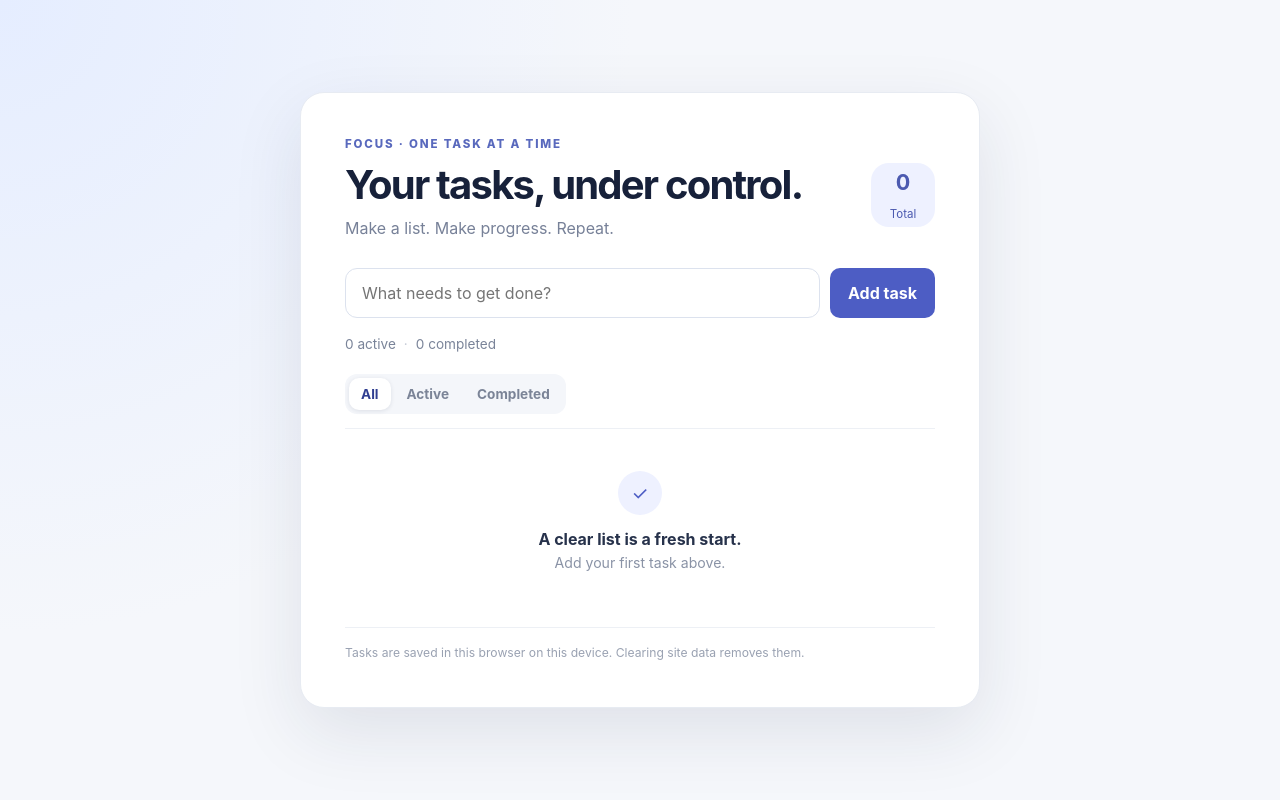
it: Todo management › deletes a task and clears completed tasks
Type "Remove me" into the field named "add a task" at (582,293), box [345,268,820,318]
Click the button "Add task" at (882,293), box [830,268,935,318]
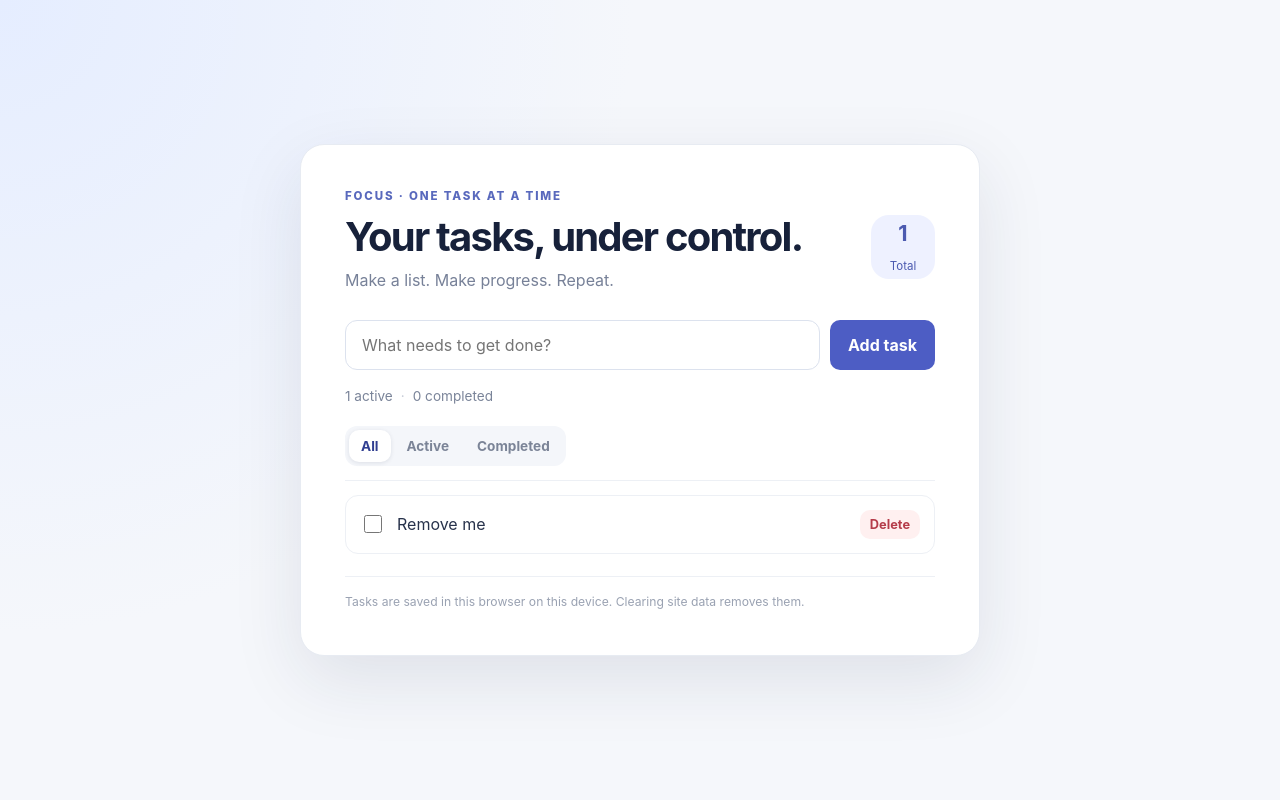
Click the button with aria-label "delete: remove me" at (890,524), box [860,510,920,539]
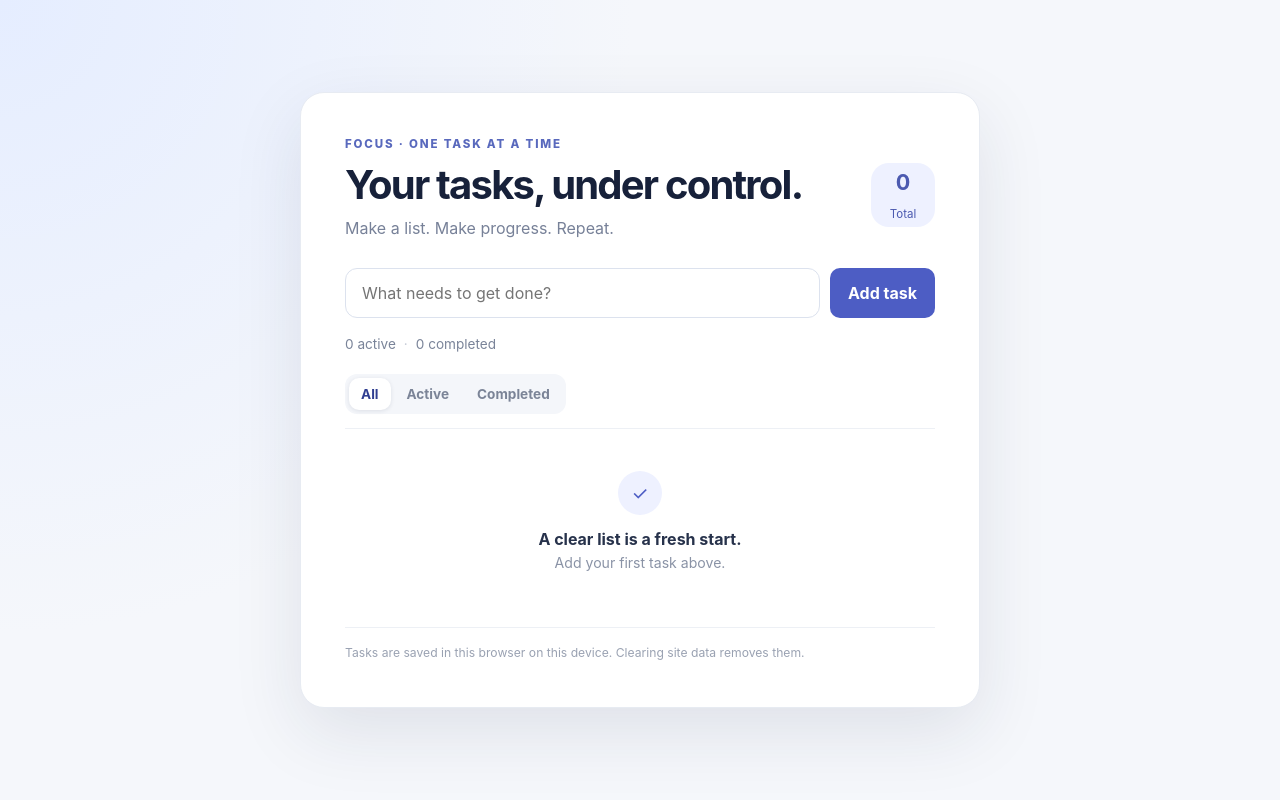
Expected: the text "Remove me" is gone
Type "Done item" into the field named "add a task" at (582,293), box [345,268,820,318]
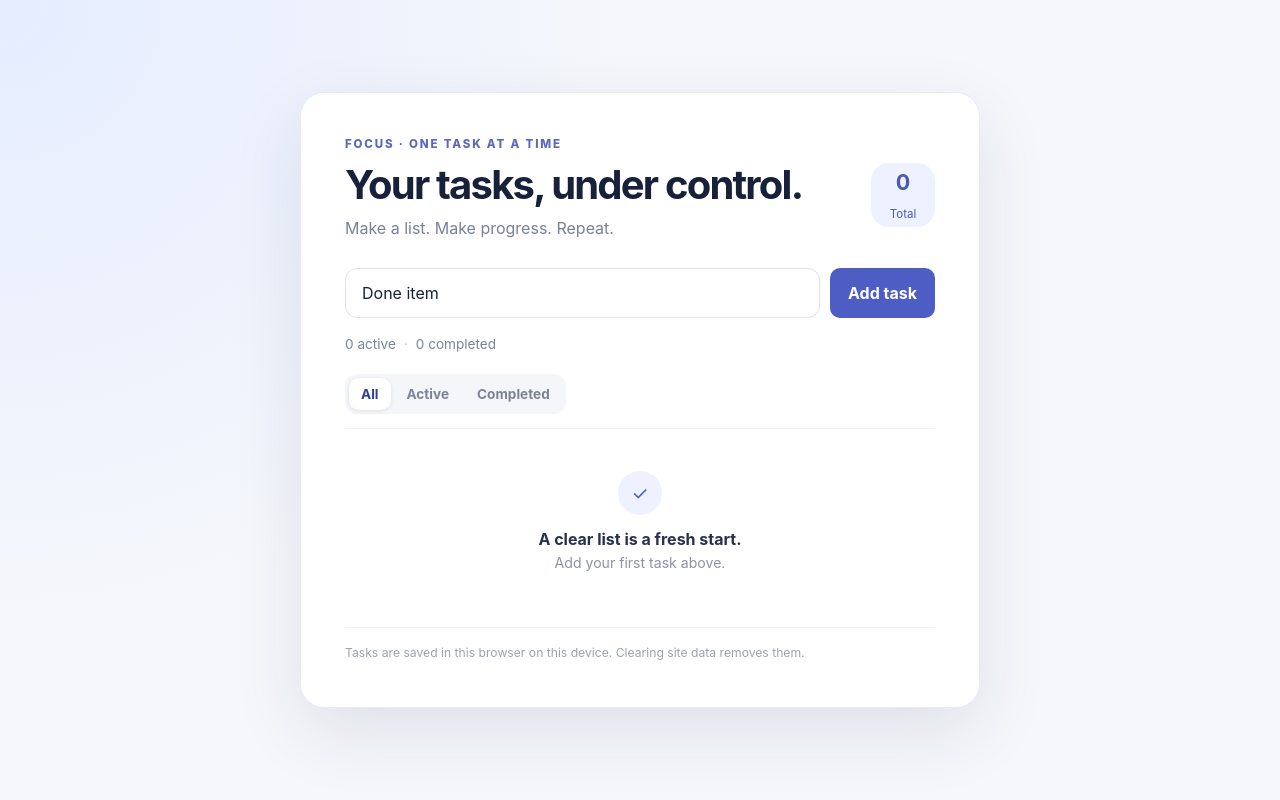
Click the button "Add task" at (882,293), box [830,268,935,318]
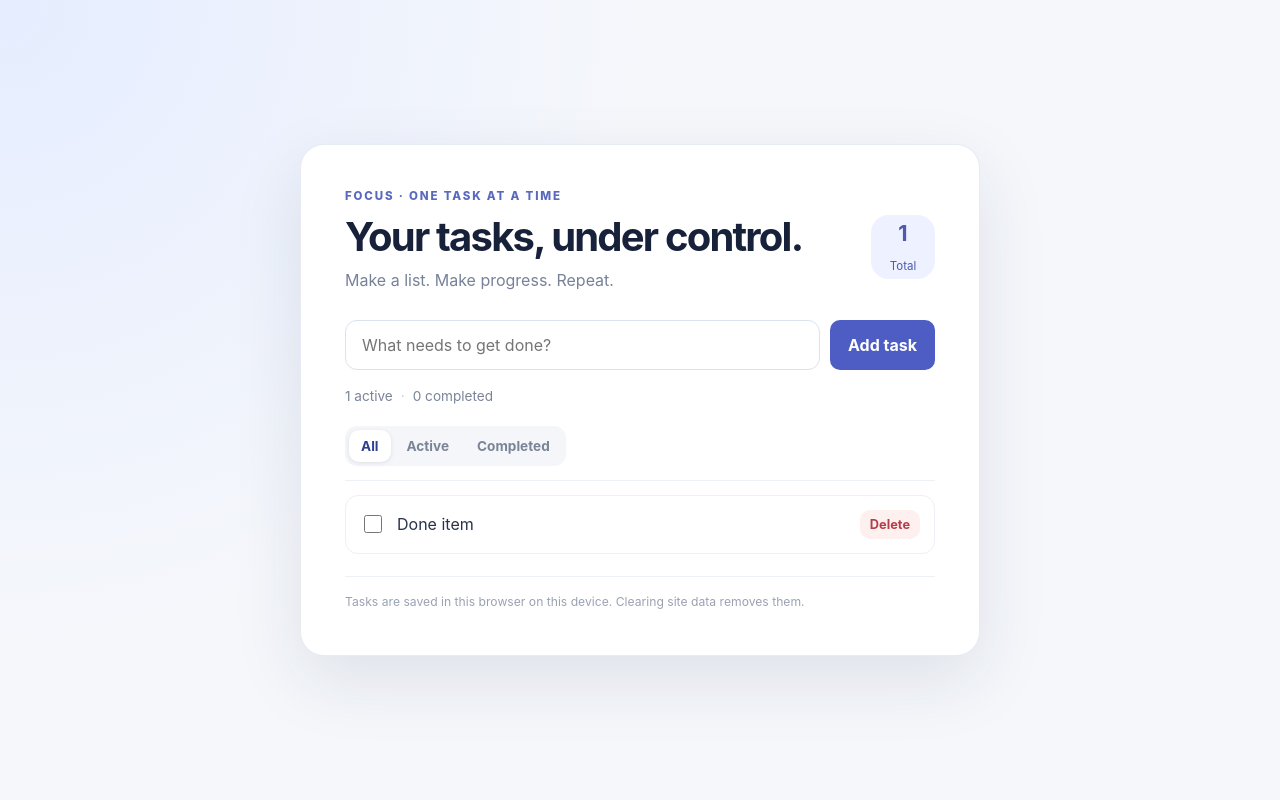
Click the checkbox named "mark done item as completed" at (373,524), box [364,515,382,533]
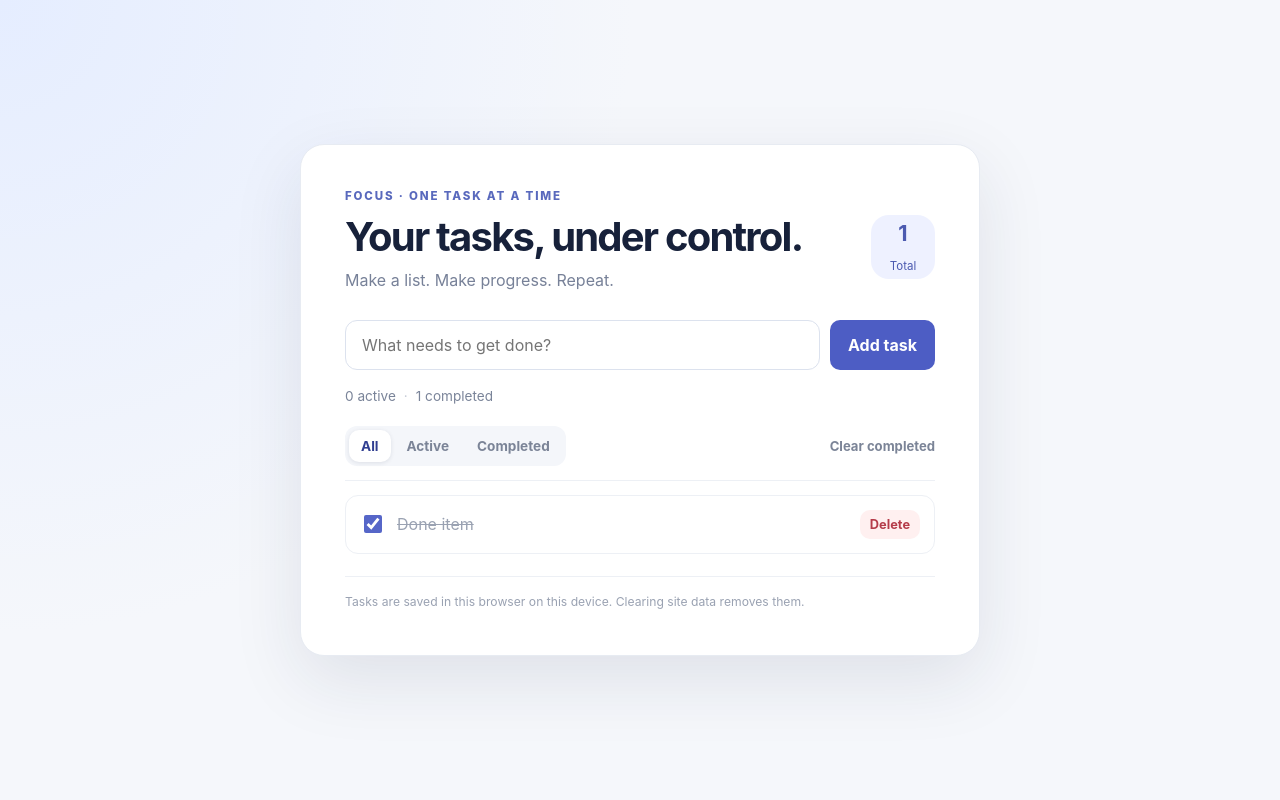
Click the button "Clear completed" at (882,446), box [830,430,935,462]
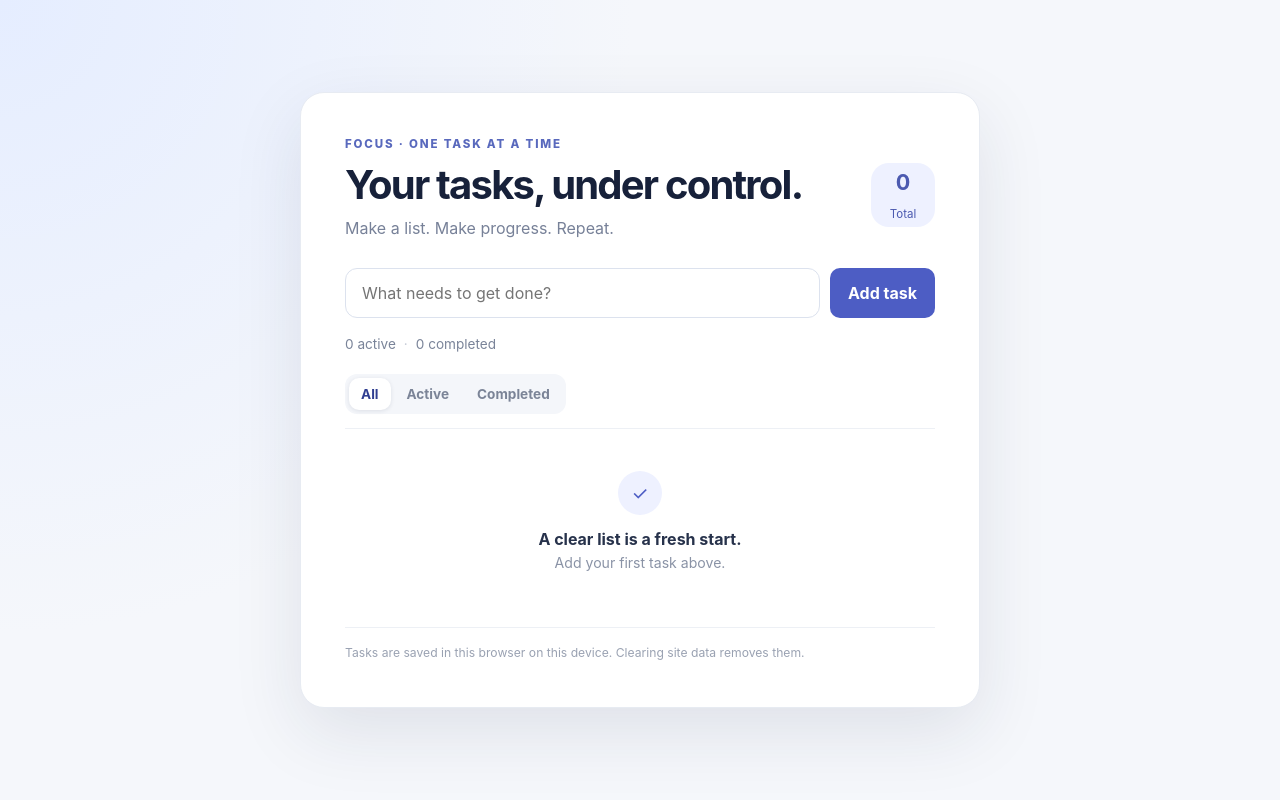
Expected: the text "Done item" is gone
